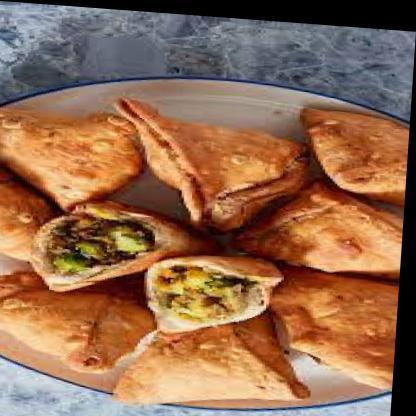samosa: (107, 93, 314, 235), (120, 298, 318, 411), (228, 168, 408, 271), (0, 267, 162, 374), (0, 105, 148, 216), (269, 263, 403, 382), (297, 101, 412, 200), (0, 162, 65, 262)
